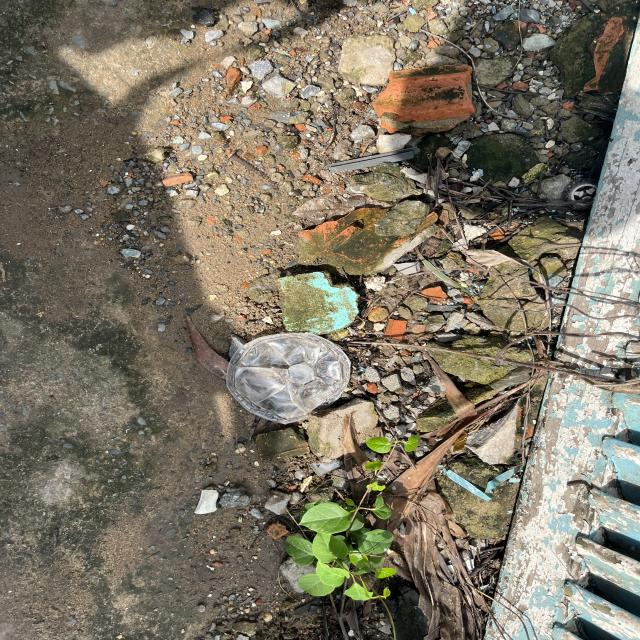lid: (226, 332, 351, 424)
